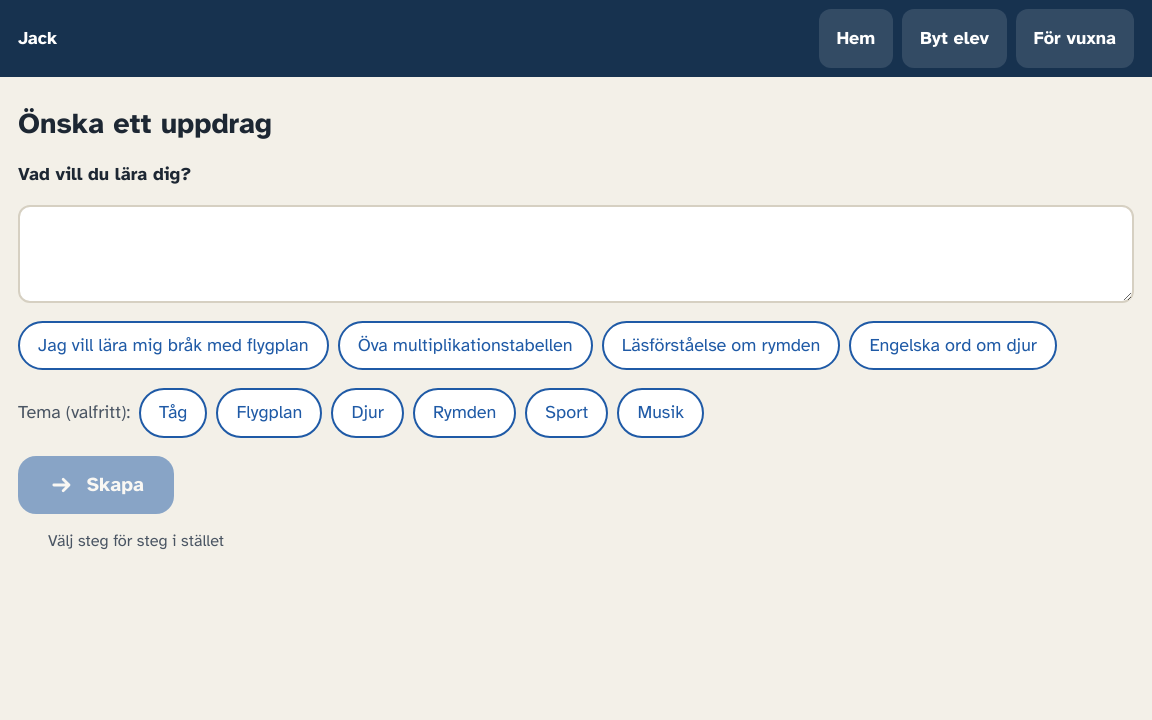
Scenario: free requests (middle, upper) › middle: the guided choices are an alternative
Click the button "Välj steg för steg i stället".
click(136, 541)  # box x1=18 y1=514 x2=254 y2=568
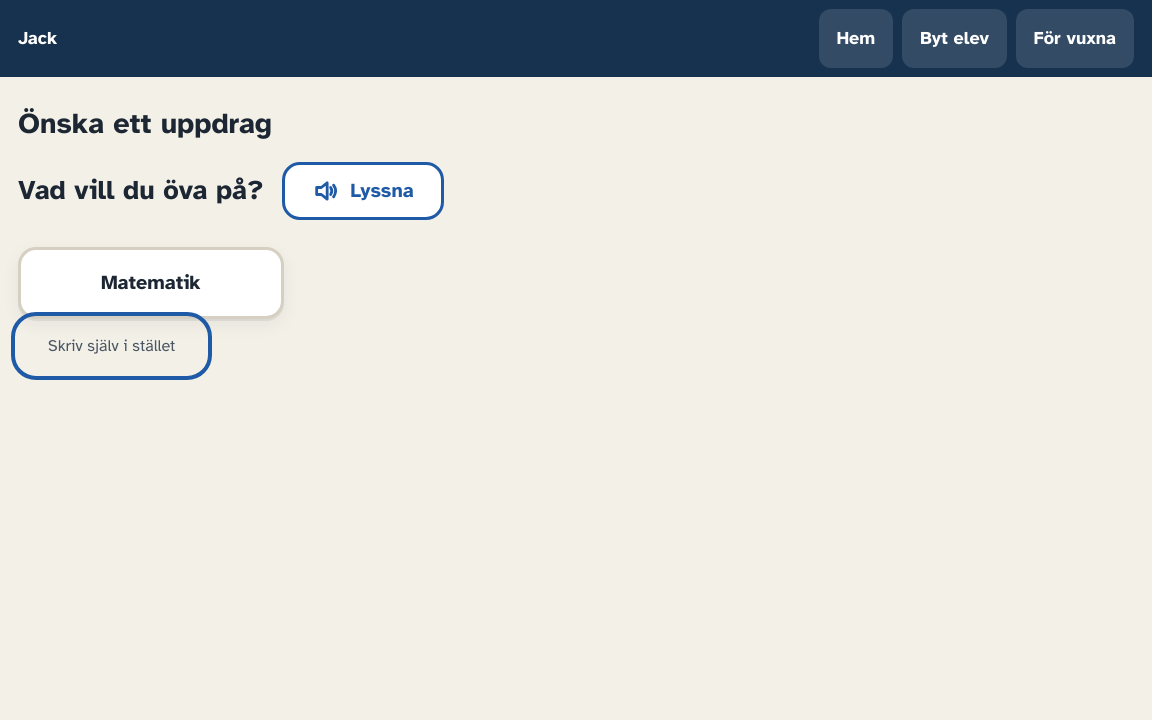
expect the button "Matematik" is shown: met, box x1=18 y1=247 x2=284 y2=319
